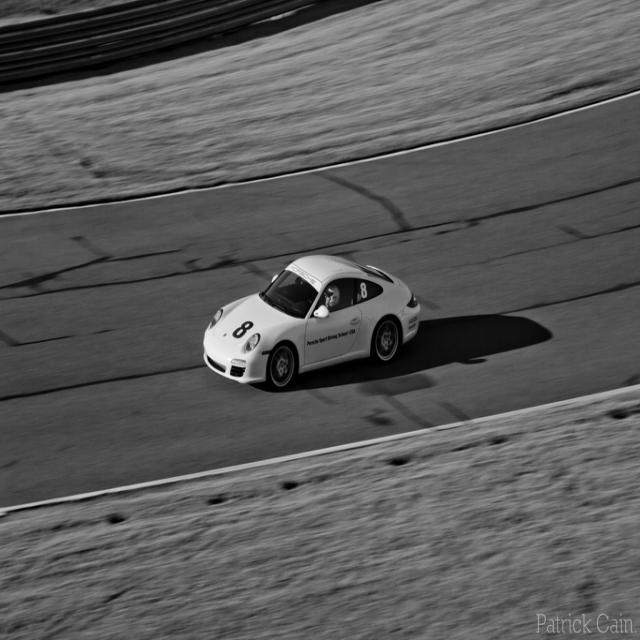car: (201, 253, 420, 391)
